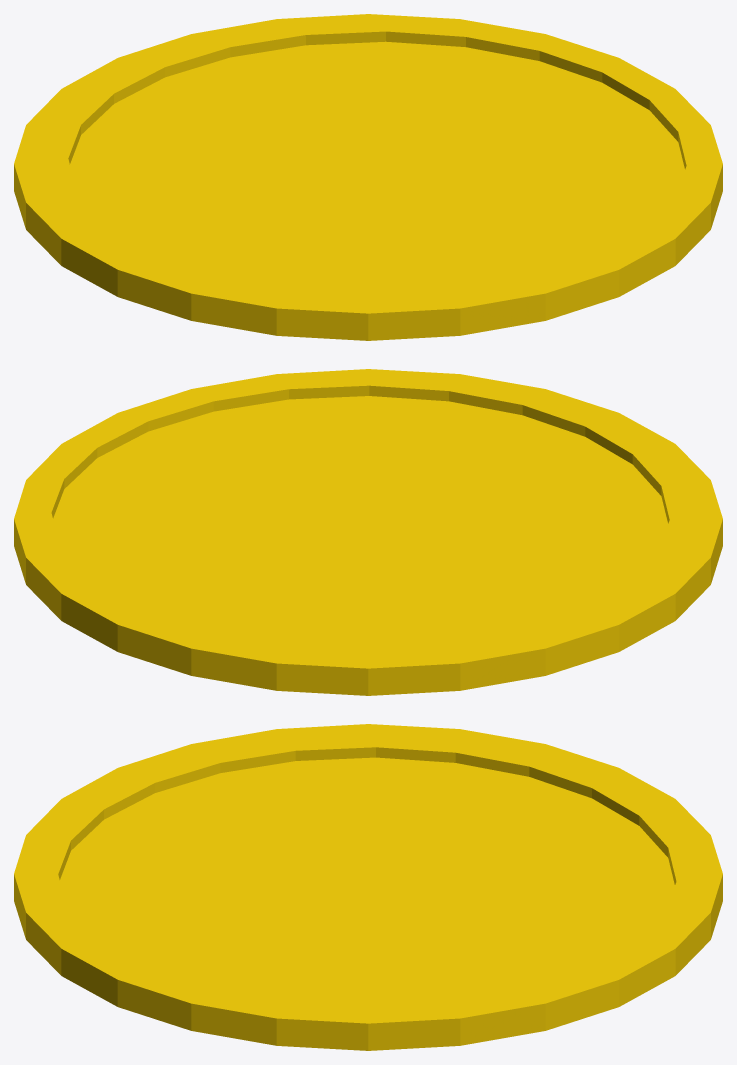
File: coin.fbx
3 views of the same model, one above another, from view 1: azimuth 30°, elevation 25°; view 2: azimuth 150°, elevation 25°; view 3: azimuth 270°, elevation 25° (orthographic).
Parts seen in each view (by area): view 1: Group3, Group2; view 2: Group3, Group2; view 3: Group3, Group2.
Part boxes in pixels (<box>): Group3: <box>70,41,684,292</box>; Group2: <box>14,14,722,340</box>; Group3: <box>53,396,667,646</box>; Group2: <box>14,369,722,695</box>; Group3: <box>60,757,674,1008</box>; Group2: <box>14,724,722,1050</box>.
Bounding box in the file's own units: 298 × 12.7 × 298.
